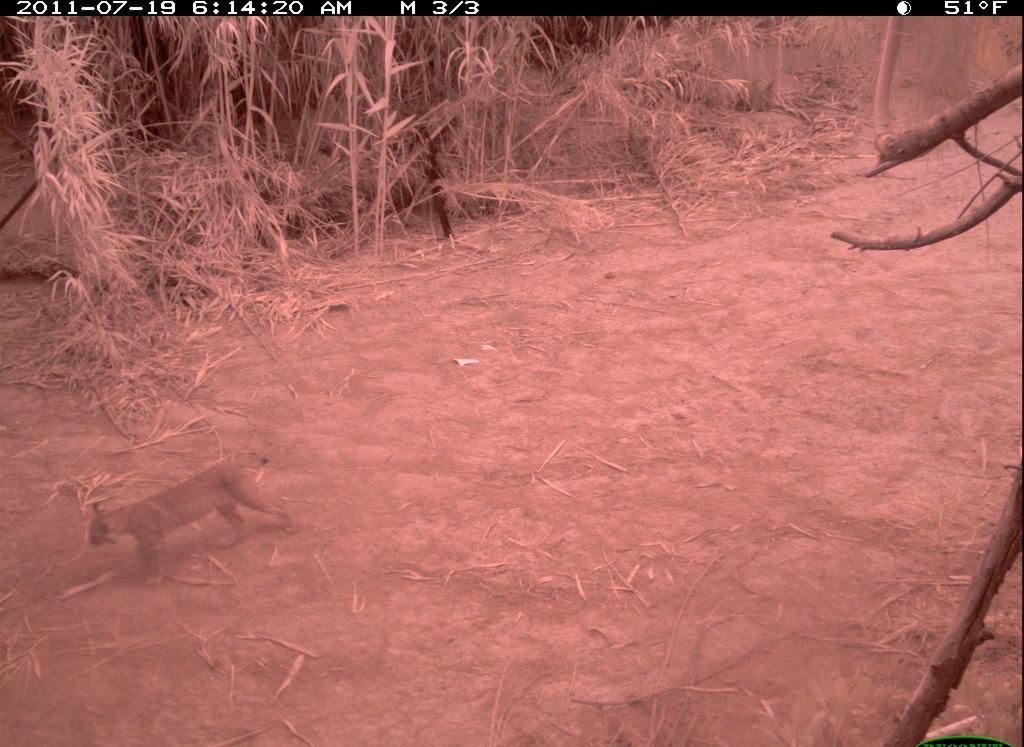bobcat: (93, 456, 303, 589)
